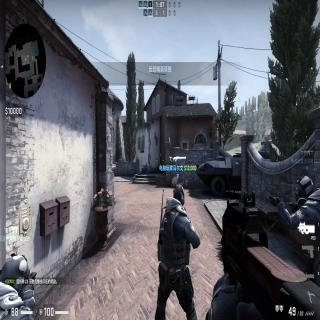CT-Body: (158, 182, 200, 319)
CT-Head: (294, 174, 314, 201), (174, 182, 184, 207)
